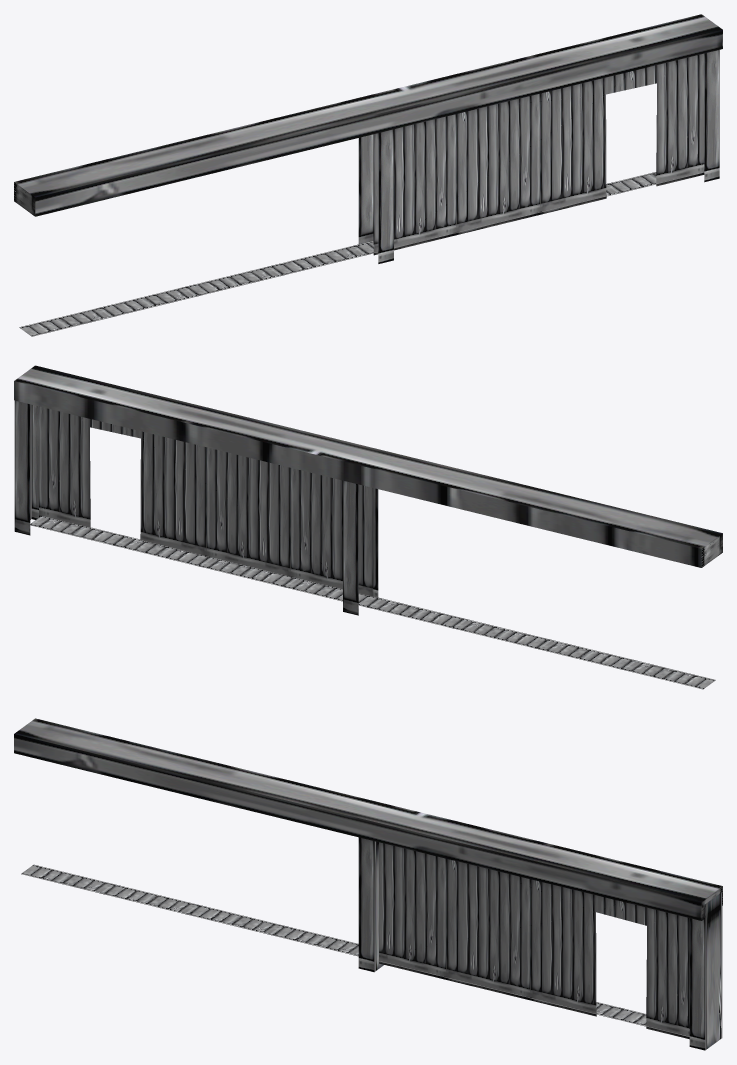
File: lagerhalle_tor_mit_tuer_2734.glb
The picture shows the model from 3 angles, top to bottom: view 1: azimuth 30°, elevation 25°; view 2: azimuth 150°, elevation 25°; view 3: azimuth 330°, elevation 25°; orthographic projection.
Visible parts, largest first — view 1: pPlaneShape2, pCubeShape4, pCubeShape2, pCubeShape5, pCubeShape3; view 2: pPlaneShape2, pCubeShape4, pCubeShape2, pCubeShape3, pCubeShape5; view 3: pPlaneShape2, pCubeShape4, pCubeShape2, pCubeShape3, pCubeShape5.
Boxes of the visible parts, bbox=[...] form: pPlaneShape2: bbox=[373, 53, 704, 255]; pCubeShape4: bbox=[14, 14, 722, 216]; pCubeShape2: bbox=[19, 172, 703, 336]; pCubeShape5: bbox=[358, 129, 393, 263]; pCubeShape3: bbox=[704, 50, 719, 182]; pPlaneShape2: bbox=[39, 406, 373, 596]; pCubeShape4: bbox=[14, 365, 722, 567]; pCubeShape2: bbox=[30, 516, 715, 689]; pCubeShape3: bbox=[14, 400, 38, 535]; pCubeShape5: bbox=[343, 480, 378, 615]; pPlaneShape2: bbox=[379, 842, 689, 1039]; pCubeShape4: bbox=[14, 718, 722, 920]; pCubeShape2: bbox=[21, 864, 689, 1036]; pCubeShape3: bbox=[689, 892, 722, 1050]; pCubeShape5: bbox=[358, 837, 383, 972].
Bounding box in the file's own units: 2.01 × 0.4221 × 0.1078.
5 materials, 5 textured.
